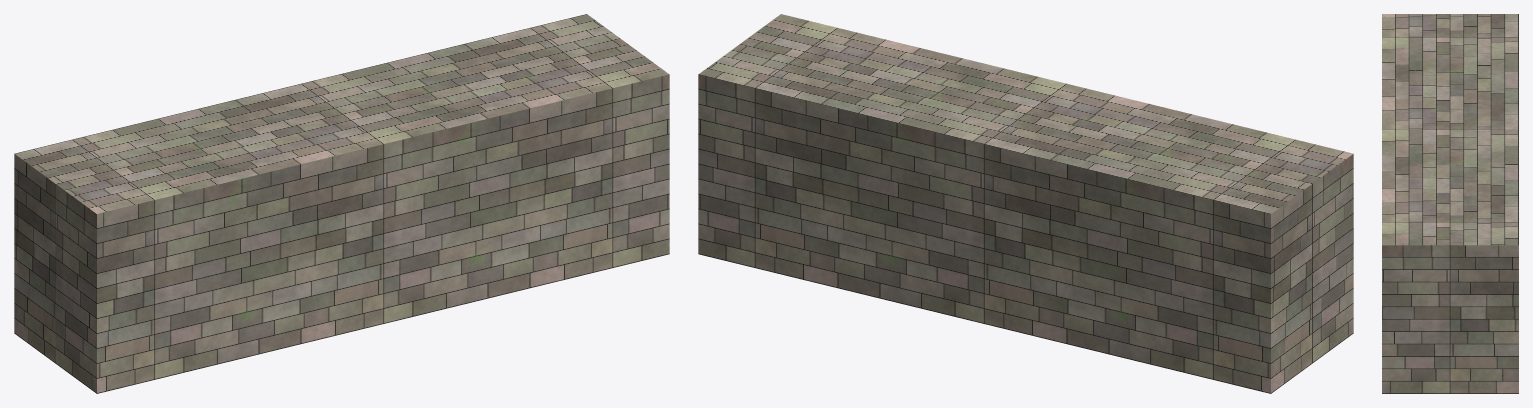
File: SM_dw_step.glb
3 views of the same model, side by side, from view 1: azimuth 30°, elevation 25°; view 2: azimuth 150°, elevation 25°; view 3: azimuth 270°, elevation 25° (orthographic). The views are drawn at different scales.
Parts seen in each view (by area): view 1: SM_dw_step; view 2: SM_dw_step; view 3: SM_dw_step.
Boxes of the visible parts, box(x1,y1,x2,y2) form: SM_dw_step: box(14, 14, 669, 393); SM_dw_step: box(698, 14, 1353, 393); SM_dw_step: box(1382, 14, 1518, 393).
Bounding box in the file's own units: 4 × 1.2 × 1.
Materials: 1 (1 with a texture image).
